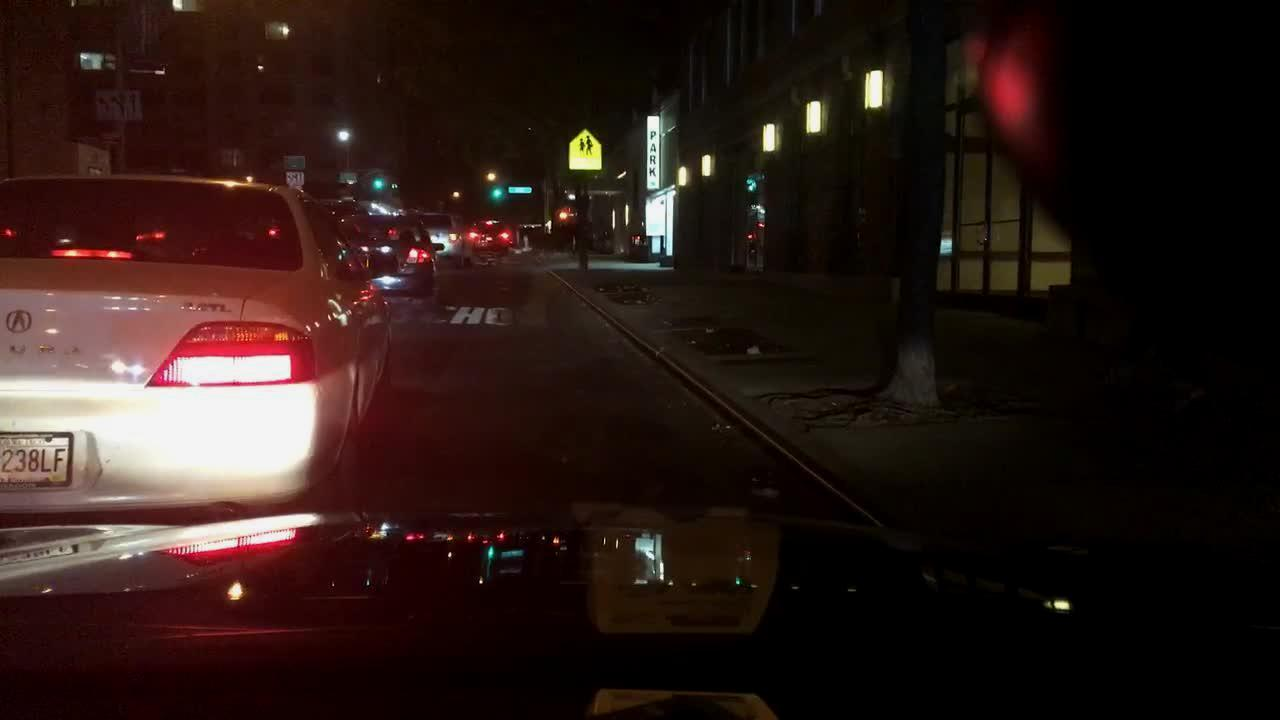acura: (0, 303, 43, 347)
